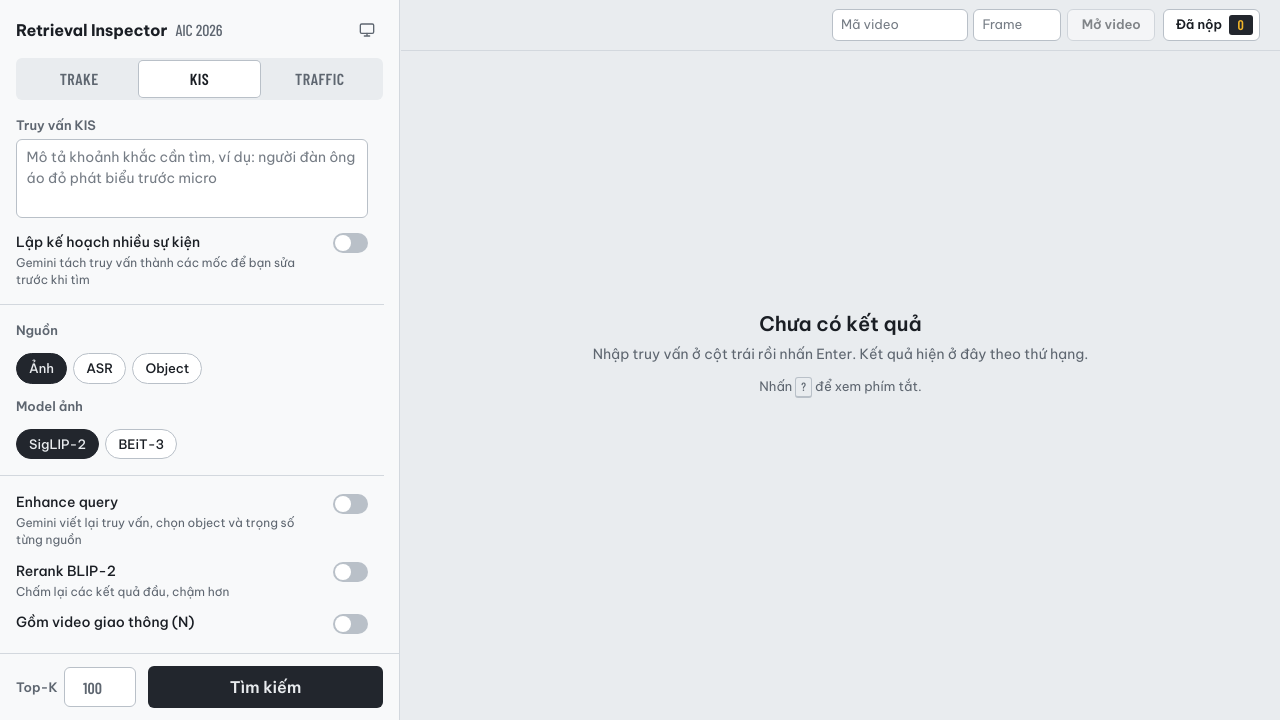
Test: Object search source › rejects unknown labels and requires an object before searching
In the text box labelled "Truy vấn KIS": (192,179) [16,139,368,218], type "a unicorn"
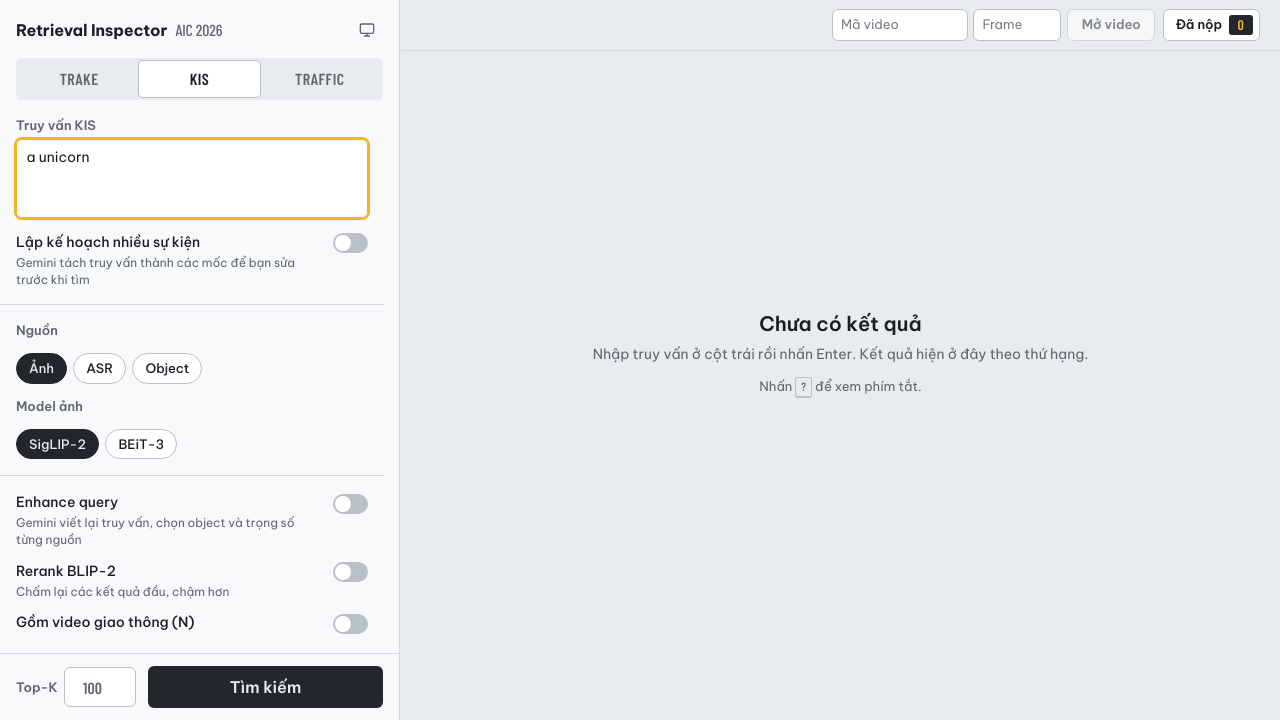
Click the checkbox labelled "Object": (167,368) [132,353,202,384]
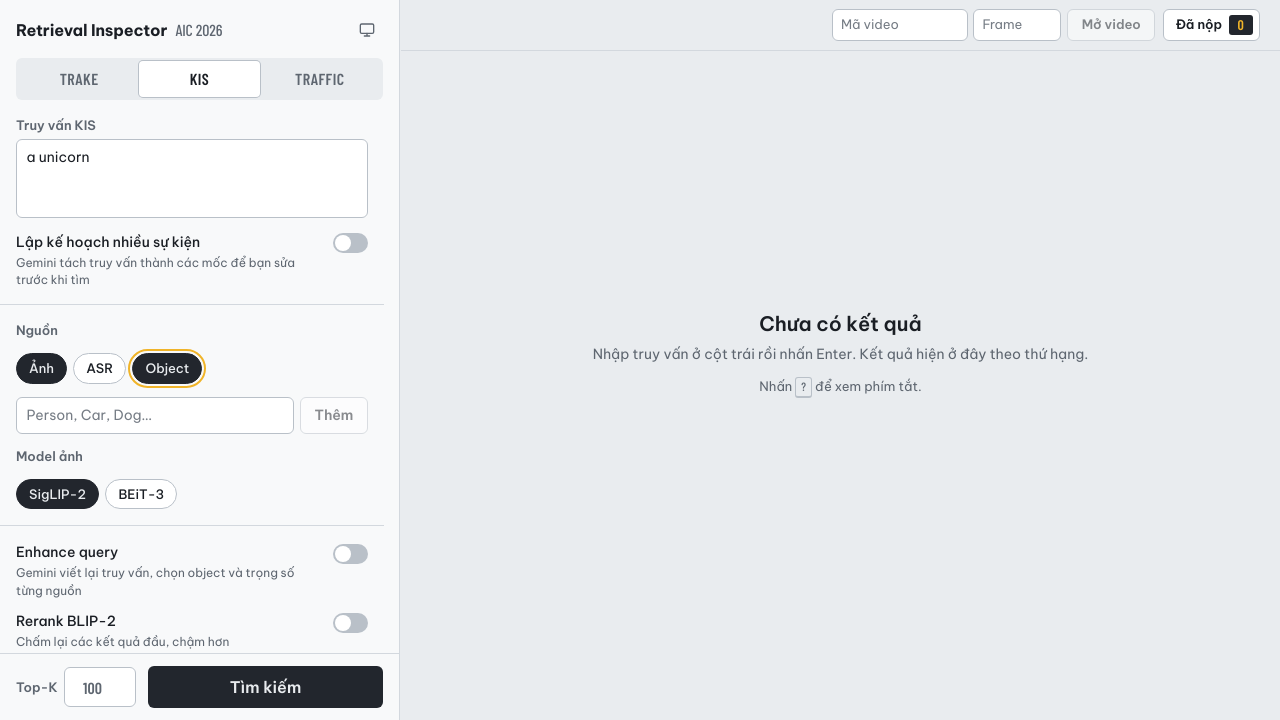
In the field named "Tên object": (155,415) [16,397,294,434], type "Unicorn"
Then press Enter
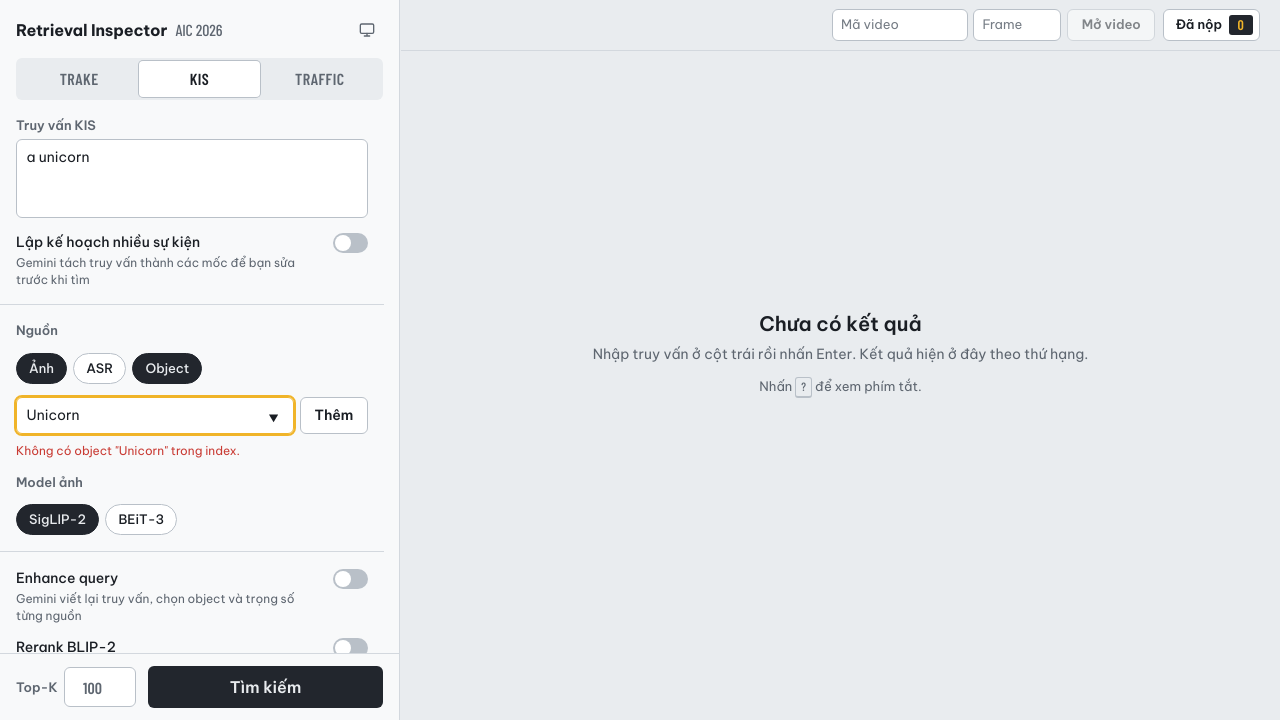
Expected: the text "Không có object \"Unicorn\" trong index." is shown, [16,443,240,458]
Click the button "Tìm kiếm": (266,687) [148,666,383,708]
(page scrolled)
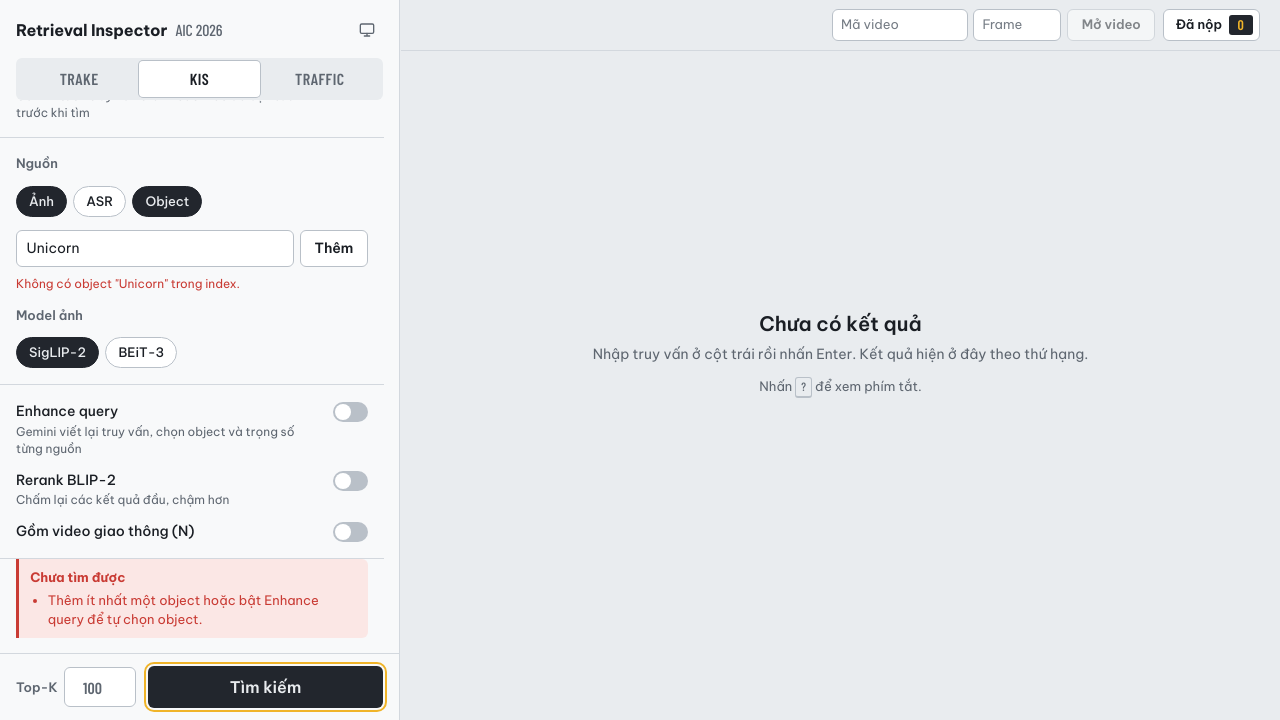
Expected: the list item "Thêm ít nhất một object hoặc bật Enhance query để tự chọn object." is shown, [48,591,357,629]
